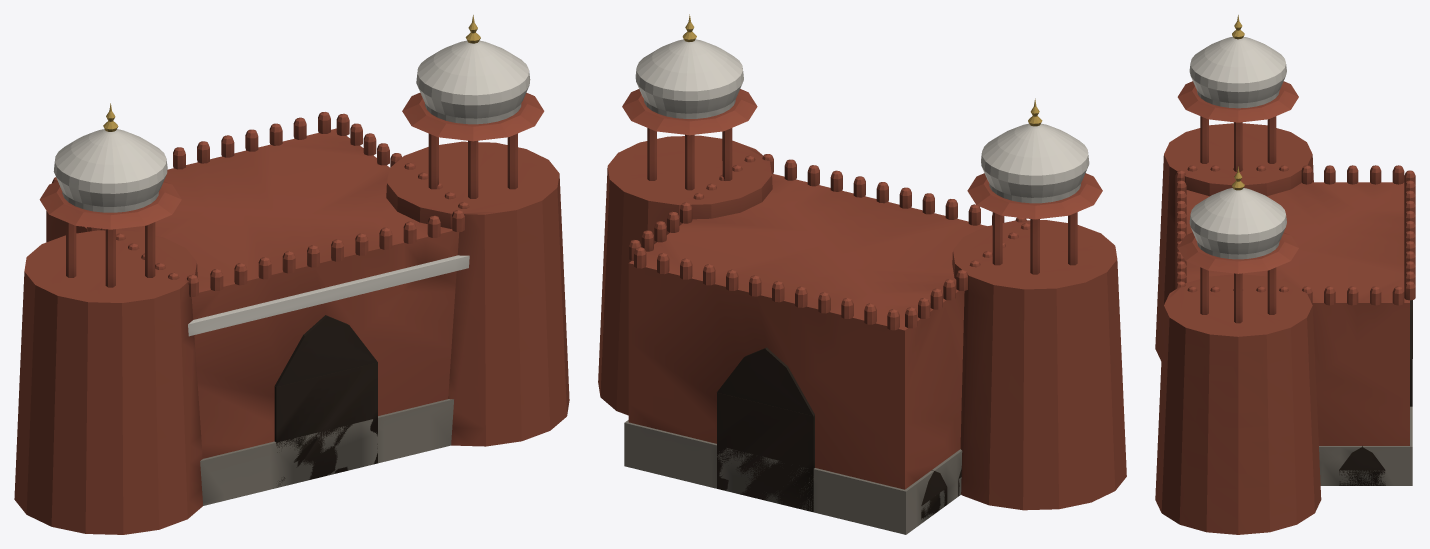
Rendered from sher-shah-gate.glb.
The picture shows the model from 3 angles, left to right: view 1: azimuth 30°, elevation 25°; view 2: azimuth 150°, elevation 25°; view 3: azimuth 270°, elevation 25°; orthographic projection. The views are drawn at different scales.
Visible parts, largest first — view 1: p1_bastions, p0_gate; view 2: p0_gate, p1_bastions; view 3: p1_bastions, p0_gate.
Boxes of the visible parts, bbox=[...] form: p1_bastions: bbox=[14, 15, 569, 534]; p0_gate: bbox=[46, 128, 459, 505]; p0_gate: bbox=[624, 174, 987, 534]; p1_bastions: bbox=[598, 14, 1126, 510]; p1_bastions: bbox=[1155, 15, 1415, 534]; p0_gate: bbox=[1186, 182, 1412, 485].
Size of the model in its own units: 36.6 by 25.82 by 18.2.
